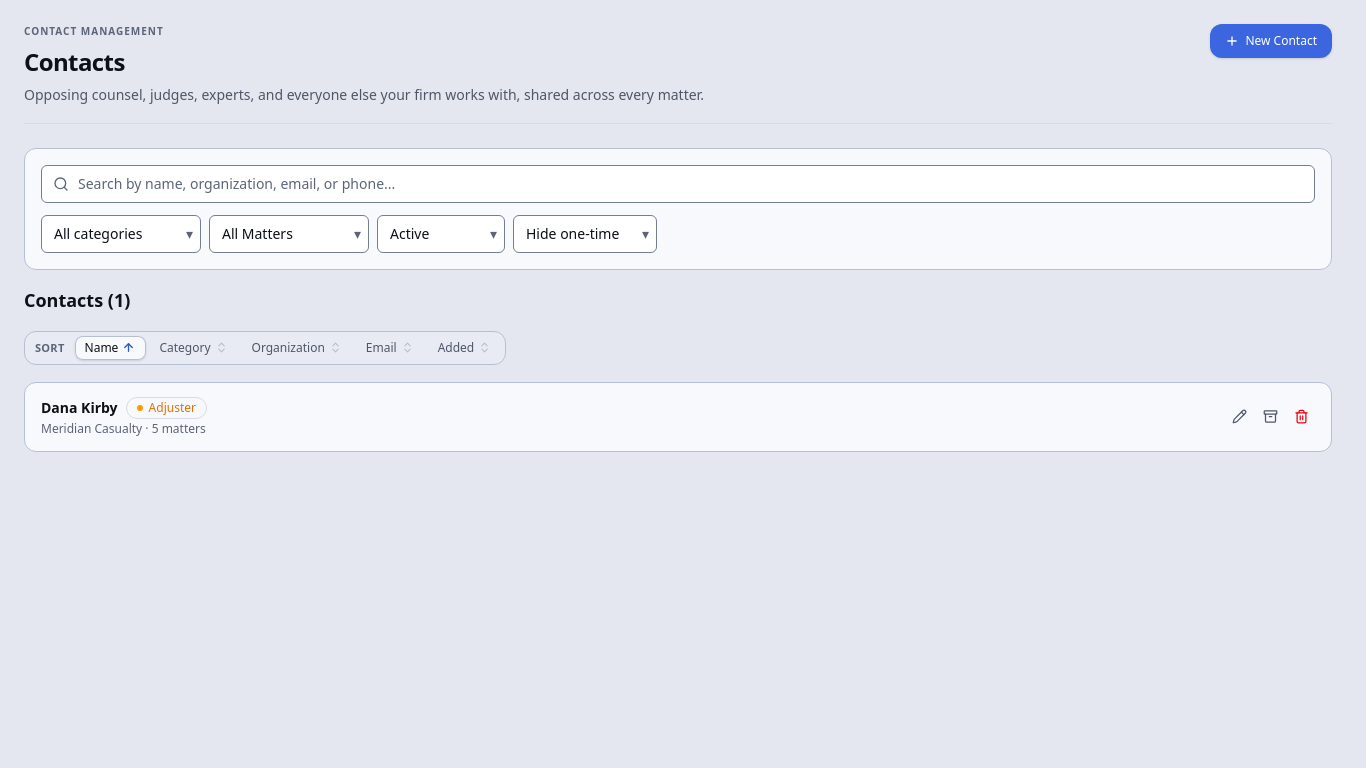
Scenario: ContactsGrid archive confirmation modal › archives the contact when confirmed in the modal
This screenshot has width=1366, height=768.
Expected: the text "Dana Kirby" is shown, [41,398,118,418]
What coordinates should you click on to do the following:
click the button named "Archive"
I would click on:
 (1270, 417)
Its box is [1257,403,1284,430].
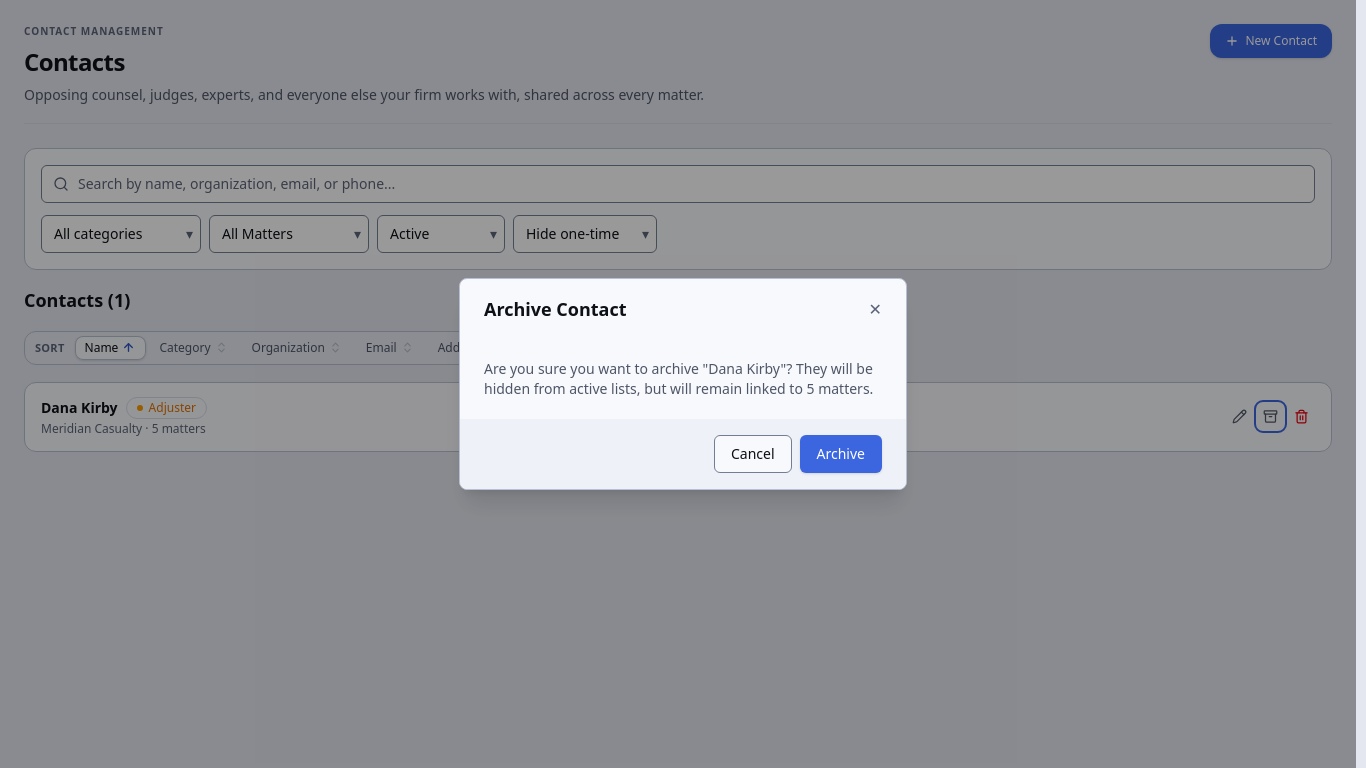
What coordinates should you click on to do the following:
click the button "Archive"
I would click on:
 (841, 454)
Its box is [800,435,882,473].
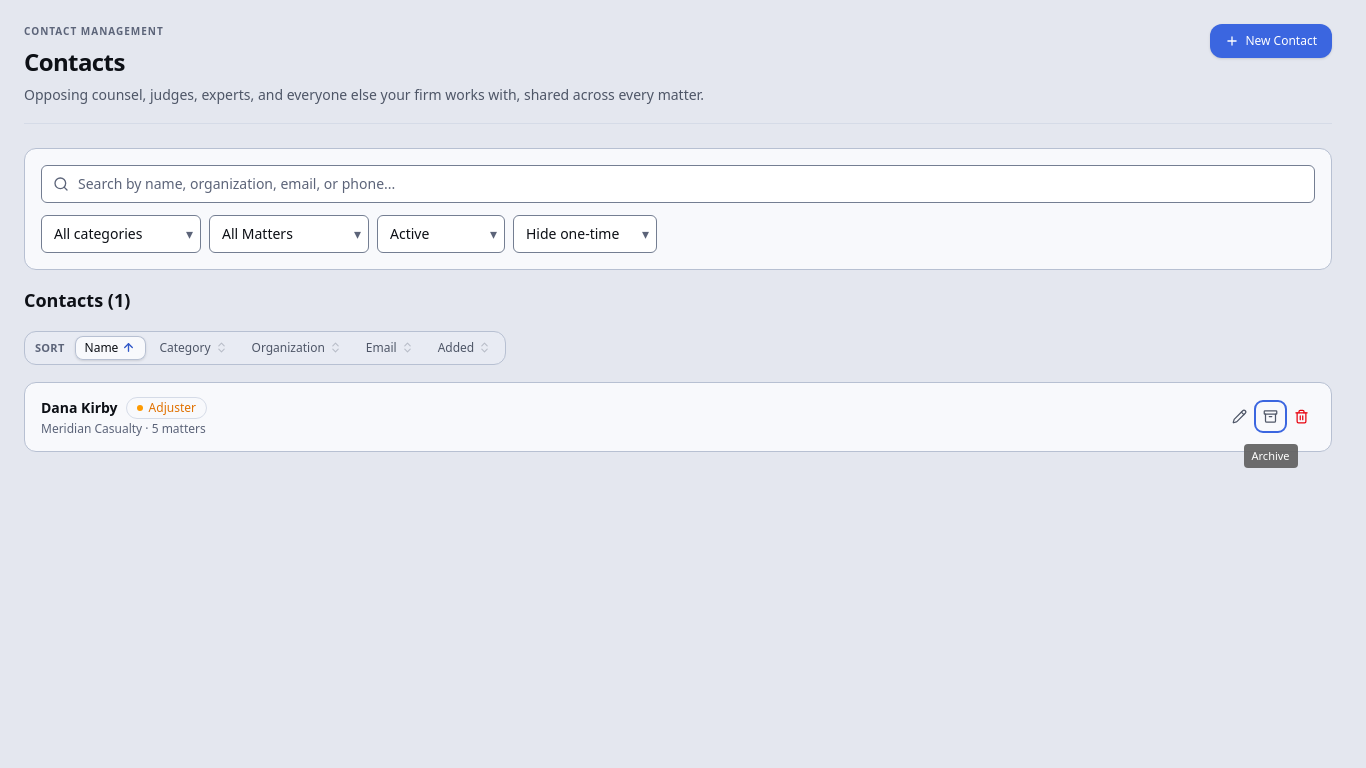
Result: the dialog is gone
